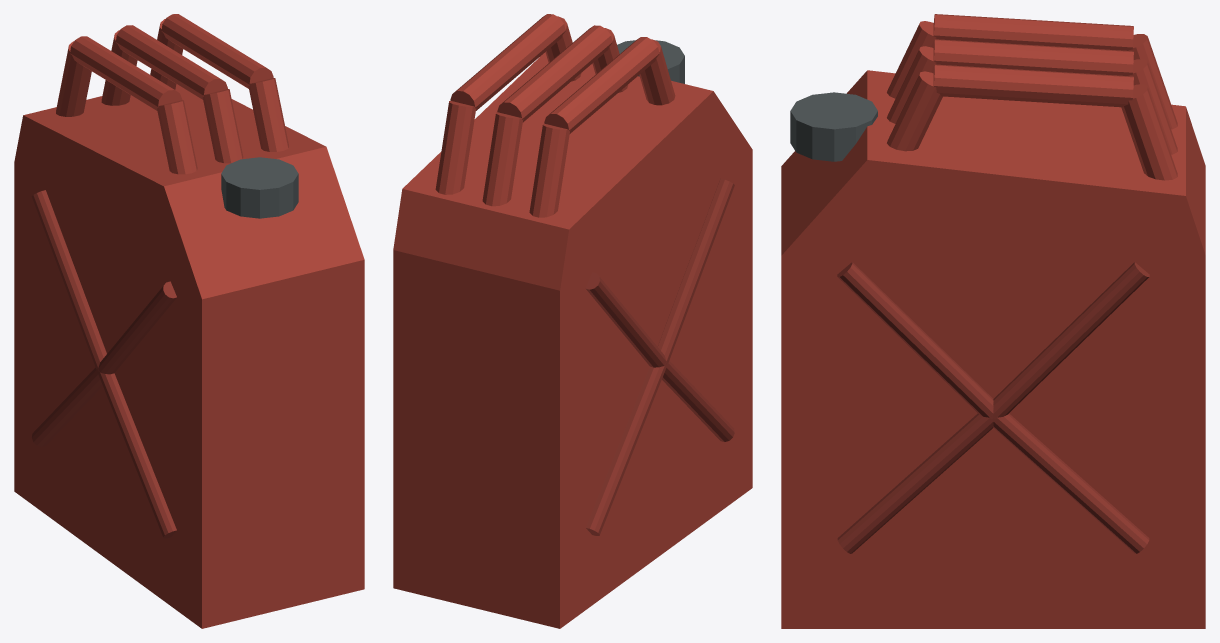
Rendered from JUNK_JerryCan.glb.
3 views of the same model, side by side, from view 1: azimuth 30°, elevation 25°; view 2: azimuth 150°, elevation 25°; view 3: azimuth 270°, elevation 25° (orthographic). The views are drawn at different scales.
Parts seen in each view (by area): view 1: StampedTank, Handles, PressedRibs, FillerCap; view 2: StampedTank, Handles, PressedRibs, FillerCap; view 3: StampedTank, Handles, PressedRibs, FillerCap.
Part boxes in pixels (x1,y1,x2,y2): StampedTank: (14,84,364,628); Handles: (56,14,288,174); PressedRibs: (31,190,176,538); FillerCap: (221,157,298,218); StampedTank: (393,52,752,628); Handles: (435,14,675,217); PressedRibs: (585,178,734,535); FillerCap: (617,40,684,83); StampedTank: (781,70,1205,628); Handles: (887,14,1177,180); PressedRibs: (837,262,1149,553); FillerCap: (790,92,877,161).
Size of the model in its own units: 0.1796 by 0.4519 by 0.32.
